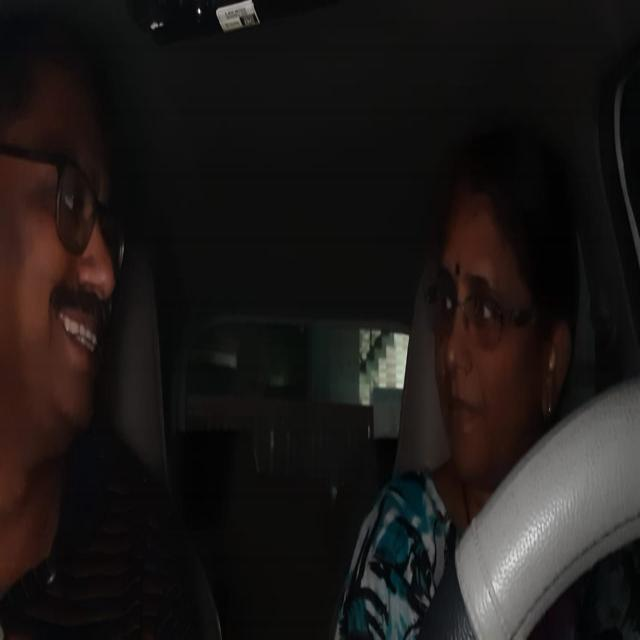LeftRight: (4, 60, 128, 429), (437, 179, 562, 453)
talking: (52, 286, 107, 369)
